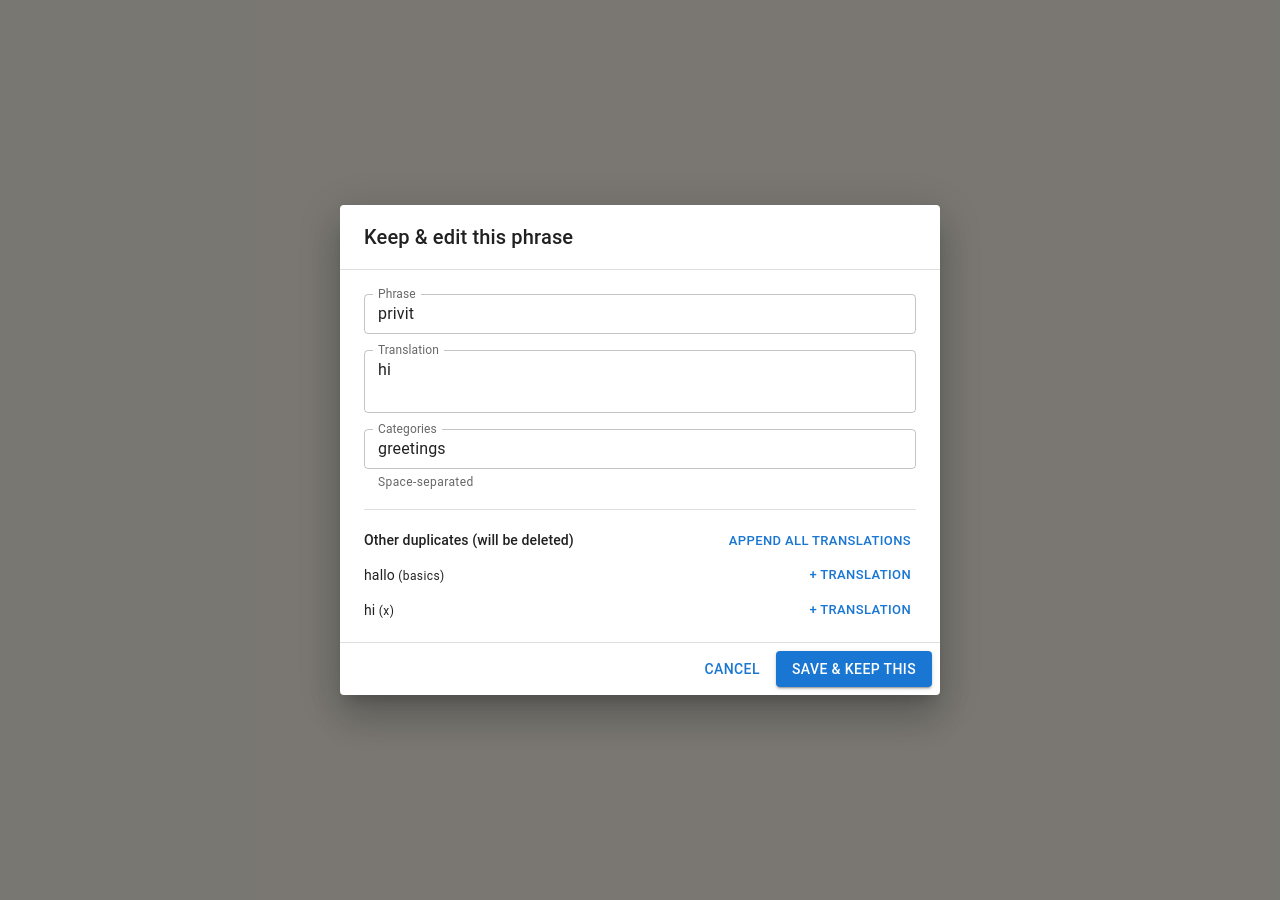
Test: KeepAndEditDialog › "append all" combines the other translations, skipping duplicates
This screenshot has width=1280, height=900.
Click the button "Append all translations" at (820, 541), box left=724, top=526, right=916, bottom=556
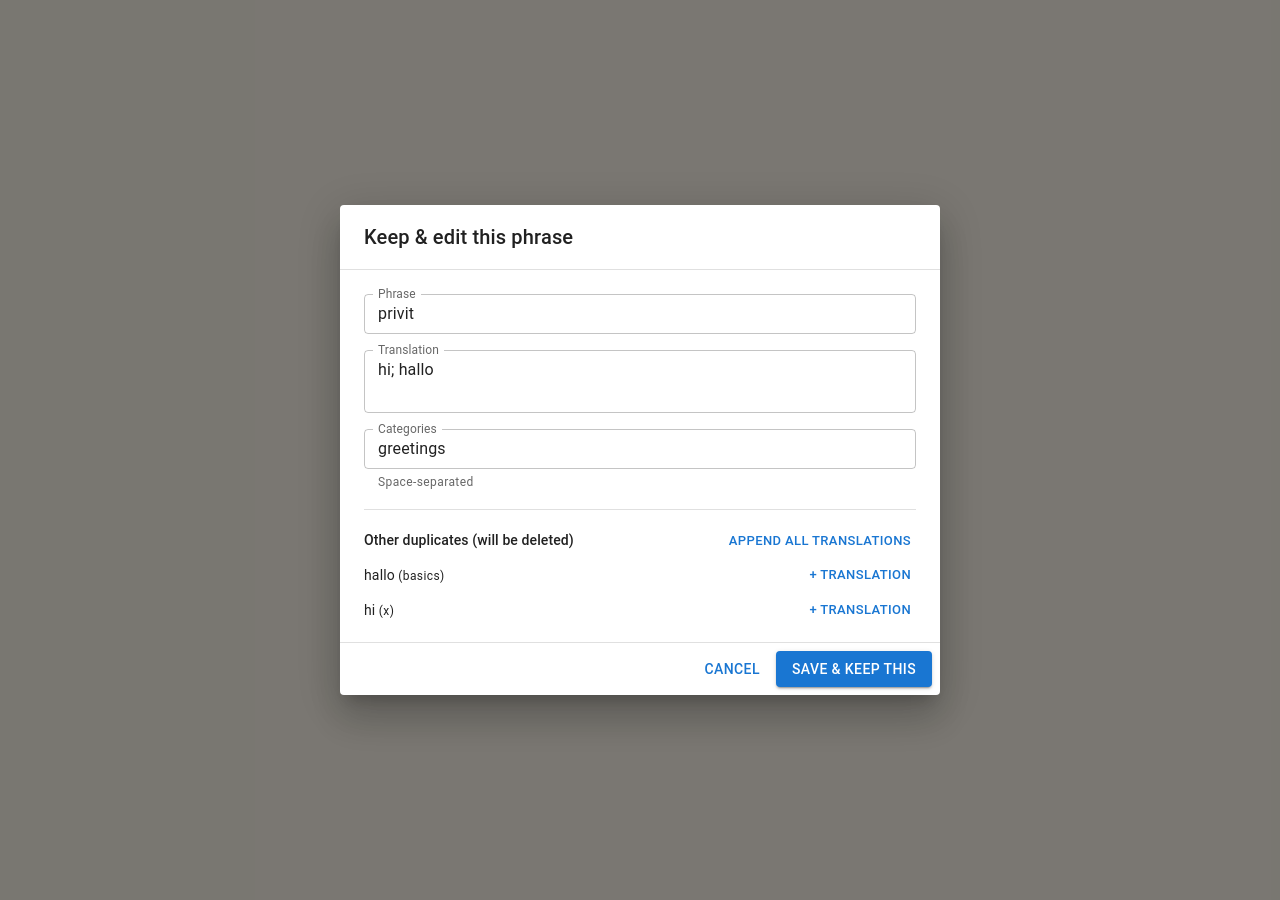
Now the text box labelled "Translation" holds "hi; hallo", box left=378, top=358, right=902, bottom=404
